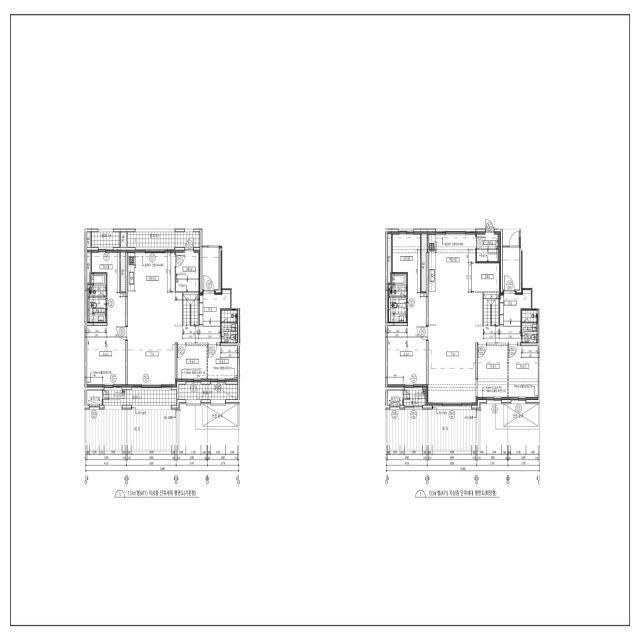space_balconi: (103, 390, 177, 405), (128, 232, 200, 247), (179, 385, 237, 400), (92, 232, 120, 247), (404, 390, 426, 405)
space_bedroom: (388, 326, 426, 387), (87, 326, 125, 387), (508, 346, 538, 400), (478, 346, 507, 400), (208, 346, 238, 381), (177, 346, 207, 381)
space_dressroom: (392, 232, 426, 326), (92, 250, 125, 326)
space_front: (199, 290, 230, 326), (500, 290, 531, 326)
space_kitchen: (428, 232, 483, 326), (128, 250, 182, 326)
space_living_room: (427, 326, 521, 405), (128, 326, 220, 387)
space_multipurpose_space: (176, 250, 200, 291), (477, 232, 498, 261)
space_other: (202, 247, 219, 290), (503, 247, 520, 290), (475, 263, 500, 291), (421, 232, 427, 291), (121, 250, 125, 291), (87, 250, 91, 283), (388, 250, 391, 283), (121, 232, 126, 247), (87, 232, 91, 247), (388, 232, 391, 247)
space_outdoor_room: (87, 390, 102, 405), (388, 390, 403, 405)
space_staircase: (183, 293, 199, 326), (484, 293, 499, 326)
space_toilet: (388, 274, 407, 322), (88, 274, 106, 322), (522, 311, 538, 343), (222, 311, 237, 343)
